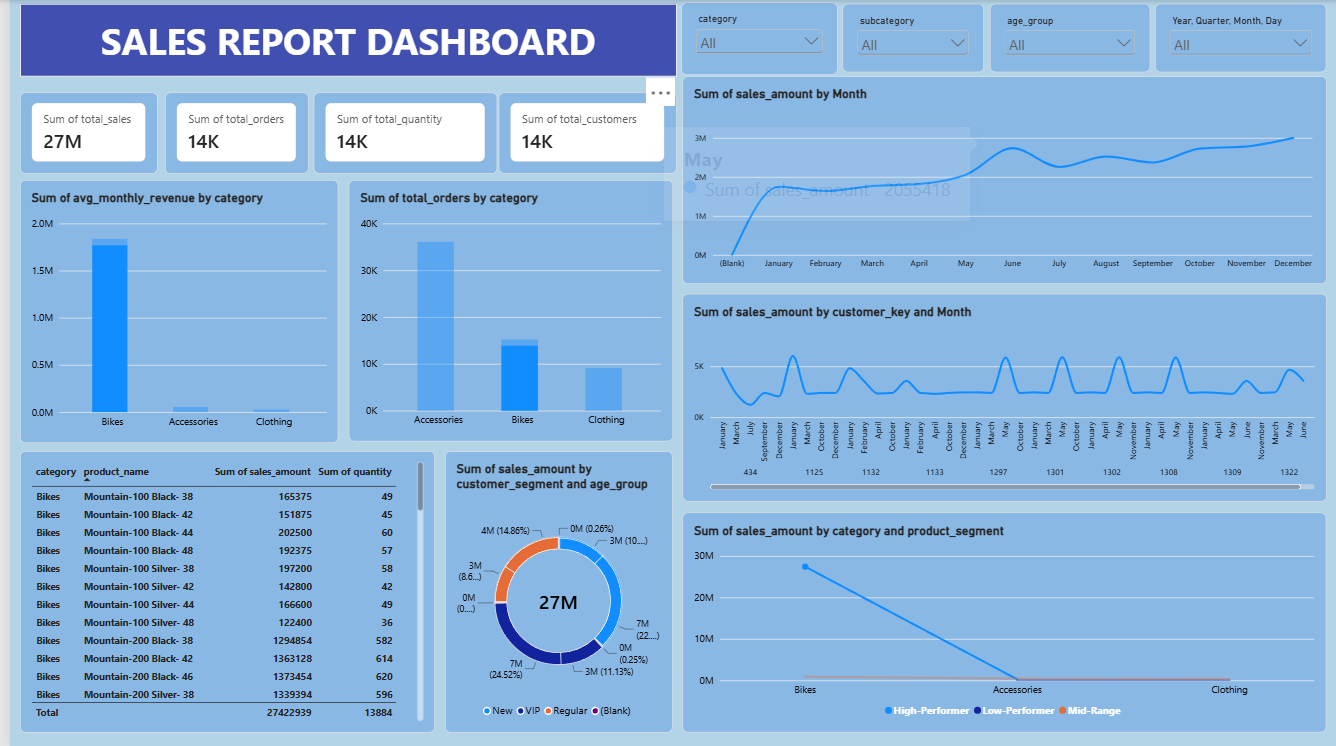

Layout of this report page (visuals, bound fields, positions):
{"tool":"powerbi","page":{"name":"Page 1","canvas":[1920,1080],"ordinal":0},"visuals":[{"type":"cardVisual","fields":{"Data":["Sum(gold report_products.total_customers)"]},"box":[708.1,133.8,257.3,117.3],"z":0},{"type":"cardVisual","fields":{"Data":["Sum(gold report_products.total_sales)"]},"box":[14.5,133.9,199.1,117.6],"z":2},{"type":"cardVisual","fields":{"Data":["Sum(gold report_products.total_orders)"]},"box":[224.4,133.8,207.9,117.3],"z":3},{"type":"lineChart","fields":{"Category":["gold fact_sales.order_date.Variation.Date Hierarchy.Month"],"Y":["Sum(gold fact_sales.sales_amount)"]},"box":[973.6,111.1,932.4,300.5],"z":5},{"type":"donutChart","fields":{"Category":["gold report_customers.customer_segment"],"Series":["gold report_customers.age_group"],"Y":["Sum(gold fact_sales.sales_amount)"]},"box":[629.8,652.5,329.3,407.5],"z":6},{"type":"tableEx","fields":{"Values":["gold report_products.category","gold report_products.product_name","Sum(gold fact_sales.sales_amount)","Sum(gold fact_sales.quantity)"]},"box":[14.4,652.5,601,407.5],"z":8},{"type":"clusteredColumnChart","fields":{"Category":["gold report_products.category"],"Y":["Sum(gold report_products.total_orders)"]},"box":[489.9,261.4,469.3,378.7],"z":12},{"type":"columnChart","fields":{"Category":["gold report_products.category"],"Y":["Sum(gold report_products.avg_monthly_revenue)"]},"box":[14.4,261.4,461.1,380.8],"z":13},{"type":"slicer","fields":{"Values":["gold report_products.subcategory"]},"box":[1205.2,5.4,204.5,99.5],"z":15},{"type":"slicer","fields":{"Values":["gold report_products.category"]},"box":[971.8,3.6,226.2,105],"z":16},{"type":"slicer","fields":{"Values":["gold report_customers.age_group"]},"box":[1418.8,5.4,231.6,99.5],"z":17},{"type":"lineChart","fields":{"Category":["gold report_products.category"],"Series":["gold report_products.product_segment"],"Y":["Sum(gold fact_sales.sales_amount)"]},"box":[973.6,742,932,318.5],"z":18},{"type":"cardVisual","fields":{"Data":["Sum(gold report_products.total_quantity)"]},"box":[440.5,133.8,265.5,117.3],"z":19},{"type":"textbox","box":[14.5,5.4,950.1,105],"z":20},{"type":"lineChart","fields":{"Category":["gold report_customers.customer_key","gold fact_sales.order_date.Variation.Date Hierarchy.Month"],"Y":["Sum(gold fact_sales.sales_amount)"]},"box":[973.6,426.1,932.4,300.5],"z":21},{"type":"slicer","fields":{"Values":["gold fact_sales.order_date.Variation.Date Hierarchy.Year","gold fact_sales.order_date.Variation.Date Hierarchy.Quarter","gold fact_sales.order_date.Variation.Date Hierarchy.Month","gold fact_sales.order_date.Variation.Date Hierarchy.Day"]},"box":[1657.6,5.4,247.9,99.5],"z":22}]}

Visuals, with their boxes in screenshot pixels (x1, y1, x2, y2), scaled from the page's 1920x1080 canvas onto the 1336x746 screenshot:
cardVisual - Sum(gold report_products.total_customers): rect(493, 92, 672, 173)
cardVisual - Sum(gold report_products.total_sales): rect(10, 92, 149, 174)
cardVisual - Sum(gold report_products.total_orders): rect(156, 92, 301, 173)
lineChart - gold fact_sales.order_date.Variation.Date Hierarchy.Month x Sum(gold fact_sales.sales_amount): rect(677, 77, 1326, 284)
donutChart - gold report_customers.customer_segment x gold report_customers.age_group: rect(438, 451, 667, 732)
tableEx - gold report_products.category x gold report_products.product_name: rect(10, 451, 428, 732)
clusteredColumnChart - gold report_products.category x Sum(gold report_products.total_orders): rect(341, 181, 667, 442)
columnChart - gold report_products.category x Sum(gold report_products.avg_monthly_revenue): rect(10, 181, 331, 444)
slicer - gold report_products.subcategory: rect(839, 4, 981, 72)
slicer - gold report_products.category: rect(676, 2, 834, 75)
slicer - gold report_customers.age_group: rect(987, 4, 1148, 72)
lineChart - gold report_products.category x gold report_products.product_segment: rect(677, 513, 1326, 733)
cardVisual - Sum(gold report_products.total_quantity): rect(307, 92, 491, 173)
textbox: rect(10, 4, 671, 76)
lineChart - gold report_customers.customer_key x gold fact_sales.order_date.Variation.Date Hierarchy.Month: rect(677, 294, 1326, 502)
slicer - gold fact_sales.order_date.Variation.Date Hierarchy.Year x gold fact_sales.order_date.Variation.Date Hierarchy.Quarter: rect(1153, 4, 1326, 72)
